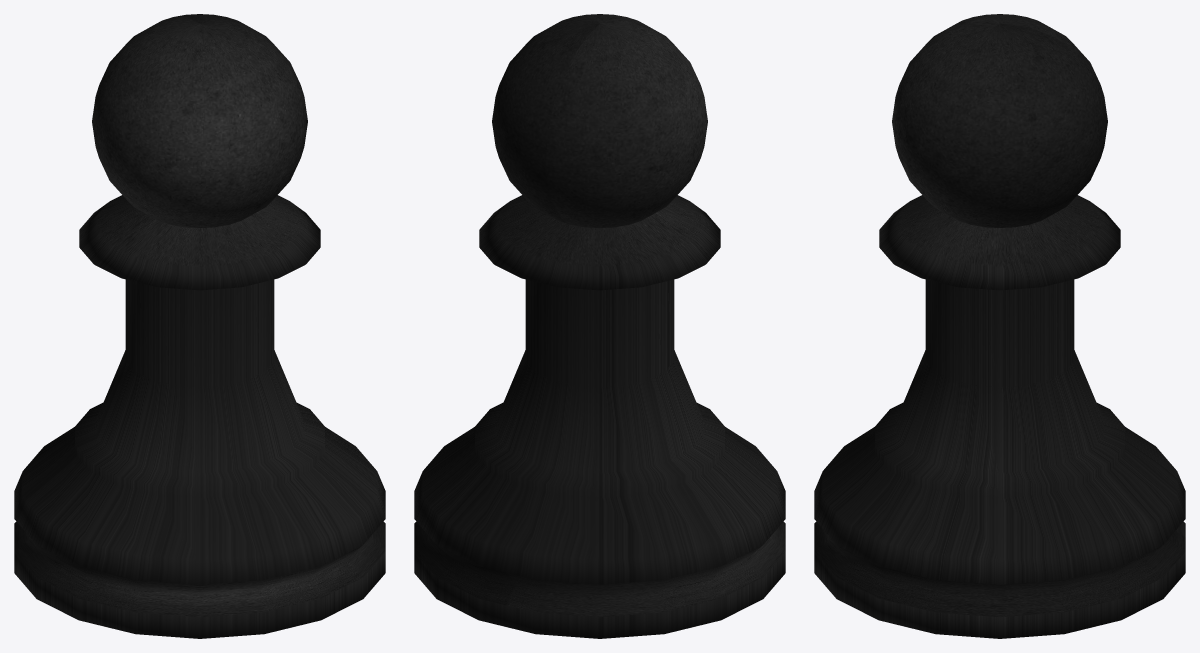
Rendered from b-pawn-stone.gltf.
The picture shows the model from 3 angles, left to right: view 1: azimuth 30°, elevation 25°; view 2: azimuth 150°, elevation 25°; view 3: azimuth 270°, elevation 25°; orthographic projection.
Visible parts, largest first — view 1: B_Pawn; view 2: B_Pawn; view 3: B_Pawn.
Part boxes in pixels (bbox=[...]): B_Pawn: bbox=[14, 14, 385, 638]; B_Pawn: bbox=[414, 14, 785, 638]; B_Pawn: bbox=[814, 14, 1185, 638].
Bounding box in the file's own units: 49.35 × 79.41 × 48.6.
Materials: 1 (1 with a texture image).
